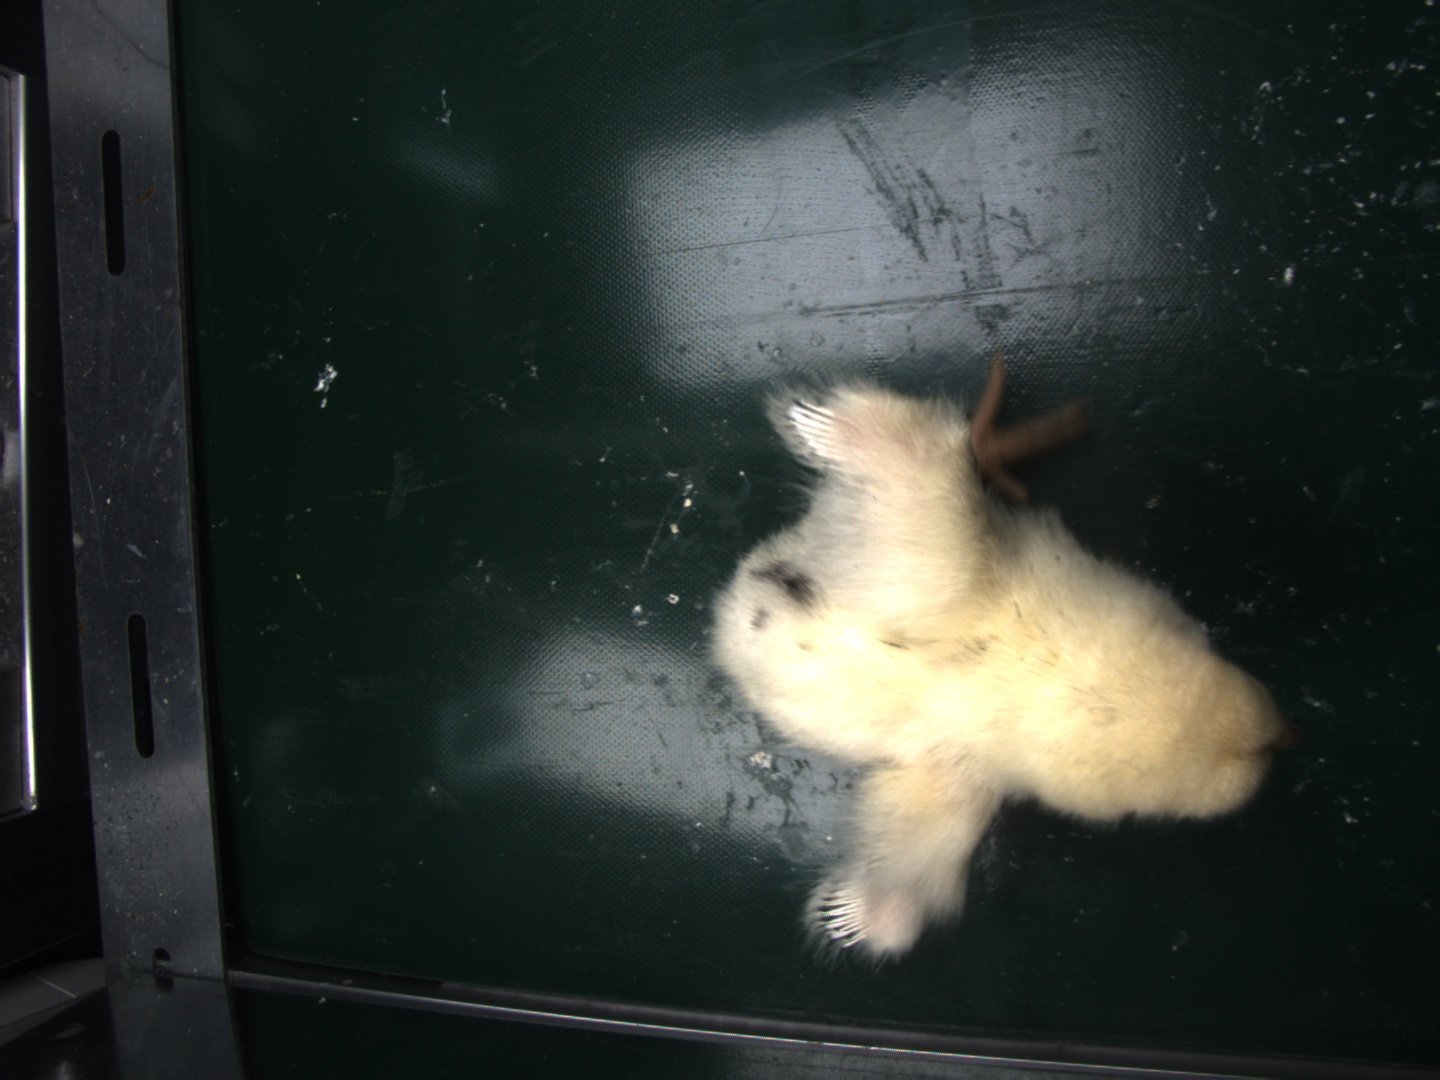male: (820, 879, 869, 947)
